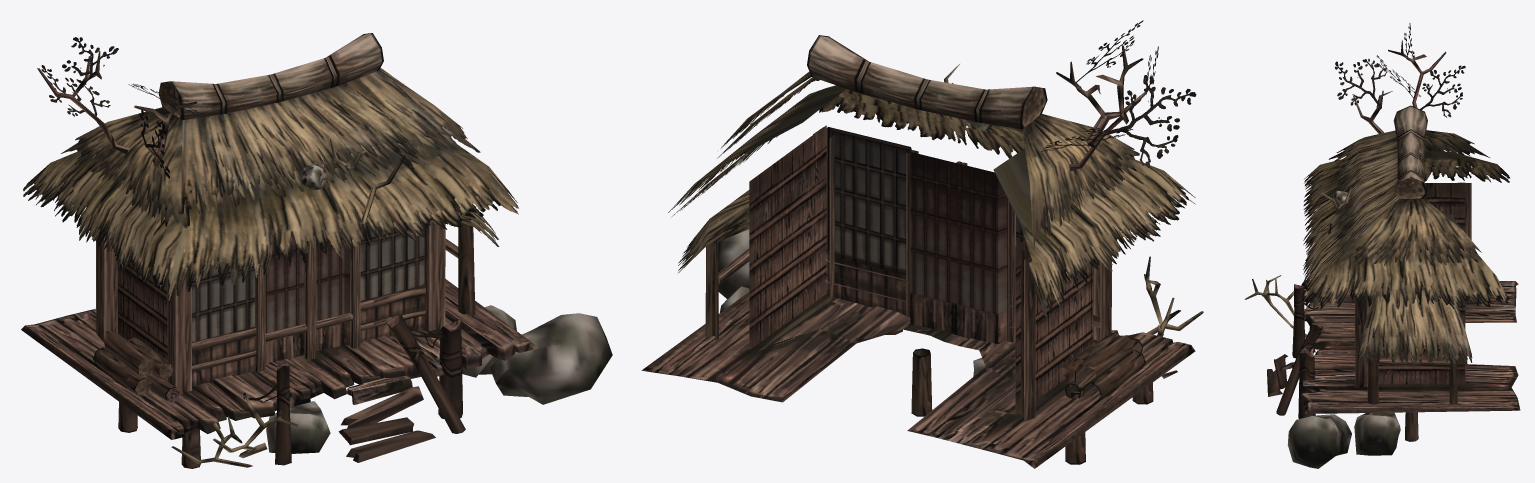
File: PRP_HouseForestA02.FBX
3 renders of one model, left to right at view 1: azimuth 30°, elevation 25°; view 2: azimuth 150°, elevation 25°; view 3: azimuth 270°, elevation 25°, orthographic. The views are drawn at different scales.
Visible parts, largest first — view 1: PRP_HouseForestA02; view 2: PRP_HouseForestA02; view 3: PRP_HouseForestA02.
Part boxes in pixels (x1,y1,x2,y2): PRP_HouseForestA02: [21, 33, 612, 468]; PRP_HouseForestA02: [641, 20, 1203, 468]; PRP_HouseForestA02: [1245, 23, 1520, 468].
Bounding box in the file's own units: 1125 × 862 × 701.
